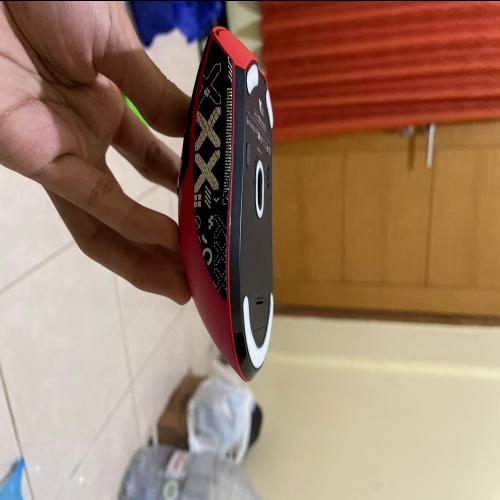mouse: (168, 17, 288, 394)
